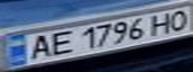1: (75, 25, 96, 52)
6: (127, 15, 151, 42)
7: (93, 21, 115, 48)
9: (109, 19, 133, 46)
A: (21, 33, 57, 62)
E: (45, 29, 78, 57)
H: (145, 10, 178, 37)
O: (163, 8, 193, 32)
